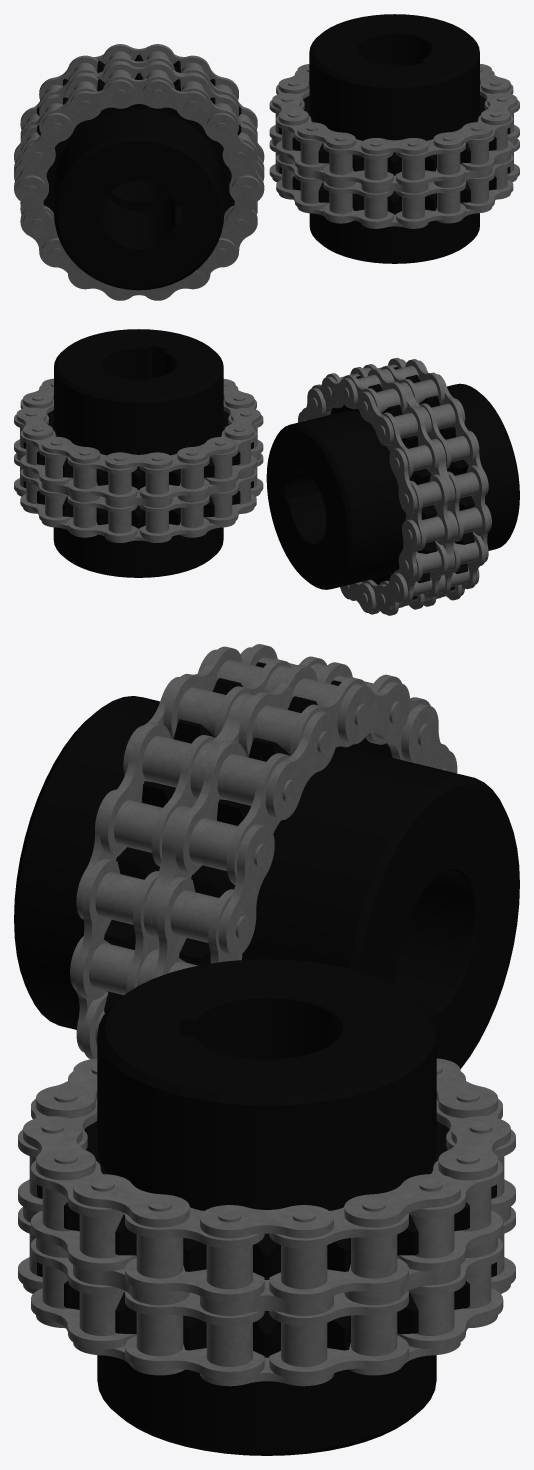
The model's file is chain couping.glb.
The picture shows the model from 3 angles, top to bottom: view 1: azimuth 30°, elevation 25°; view 2: azimuth 150°, elevation 25°; view 3: azimuth 270°, elevation 25°; orthographic projection. The views are drawn at different scales.
Visible parts, largest first — view 1: Chain_Coupling_assembly001003, Chain_Coupling_assembly001, Chain_Coupling_assembly007003, Chain_Coupling_assembly013003, Chain_Coupling_assembly013001, Chain_Coupling_assembly007002; view 2: Chain_Coupling_assembly001, Chain_Coupling_assembly001003, Chain_Coupling_assembly007002, Chain_Coupling_assembly013003, Chain_Coupling_assembly007003, Chain_Coupling_assembly013001; view 3: Chain_Coupling_assembly001, Chain_Coupling_assembly001003, Chain_Coupling_assembly013003, Chain_Coupling_assembly007002, Chain_Coupling_assembly013001, Chain_Coupling_assembly007003.
Part boxes in pixels (box(x1,y1,x2,y2)): Chain_Coupling_assembly001003: box(37, 54, 241, 290); Chain_Coupling_assembly001: box(279, 14, 510, 263); Chain_Coupling_assembly007003: box(14, 62, 264, 300); Chain_Coupling_assembly013003: box(269, 64, 519, 189); Chain_Coupling_assembly013001: box(269, 139, 519, 228); Chain_Coupling_assembly007002: box(14, 44, 264, 204); Chain_Coupling_assembly001: box(23, 329, 253, 577); Chain_Coupling_assembly001003: box(266, 367, 519, 599); Chain_Coupling_assembly007002: box(298, 367, 454, 615); Chain_Coupling_assembly013003: box(14, 378, 263, 504); Chain_Coupling_assembly007003: box(363, 358, 491, 606); Chain_Coupling_assembly013001: box(14, 453, 263, 542); Chain_Coupling_assembly001: box(37, 959, 496, 1455); Chain_Coupling_assembly001003: box(14, 662, 519, 1068); Chain_Coupling_assembly013003: box(18, 1058, 515, 1308); Chain_Coupling_assembly007002: box(146, 662, 457, 981); Chain_Coupling_assembly013001: box(18, 1207, 515, 1386); Chain_Coupling_assembly007003: box(70, 644, 326, 1059).
Bounding box in the file's own units: 0.3716 × 0.1736 × 0.1728.
3 materials, 2 textured.
